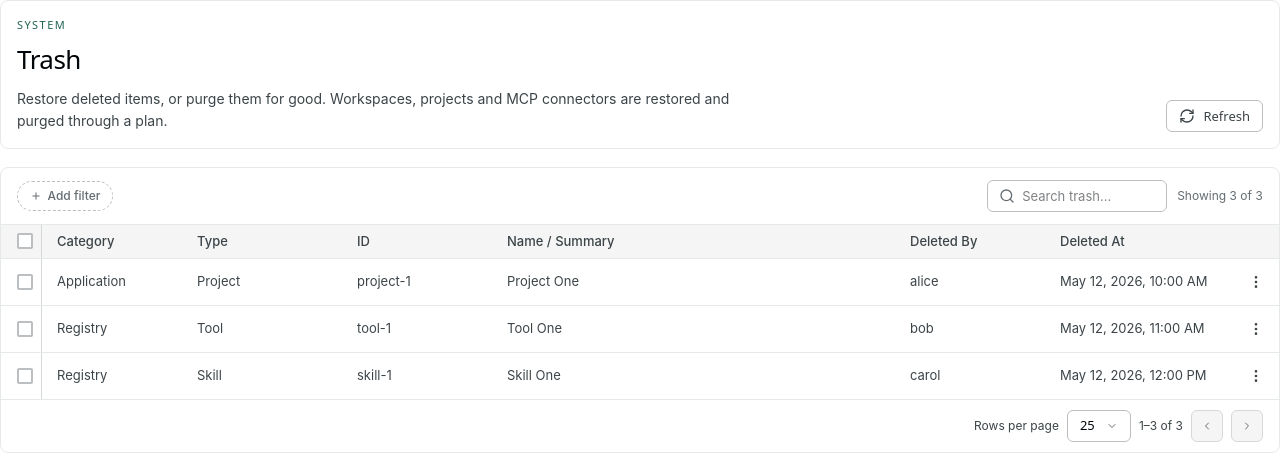
it: TrashPage › keeps row lifecycle actions visible in the trash grid
Click the button named "Actions for ": (1256, 282) [1240,266,1272,298]
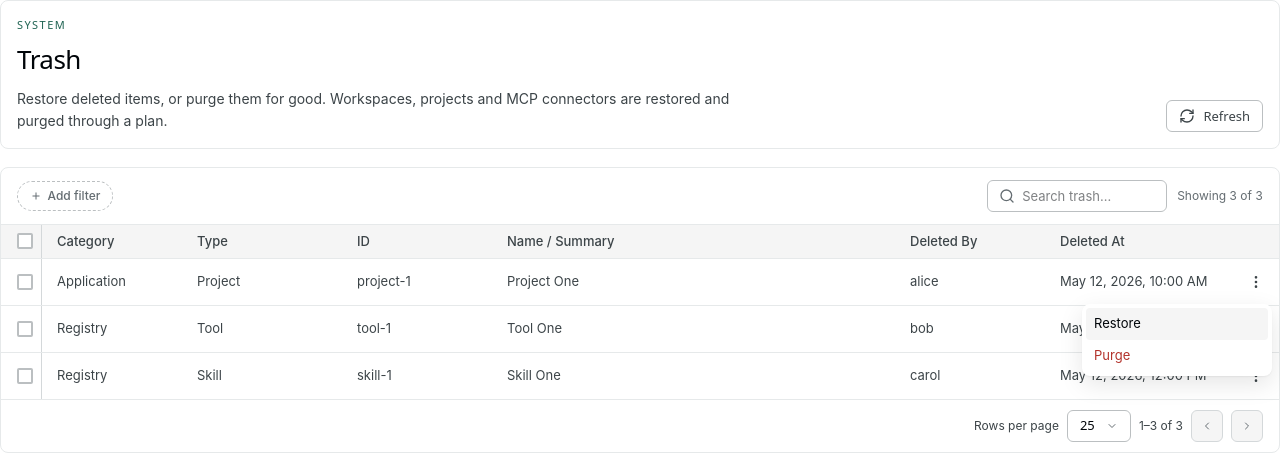
Expected: the menu item "Restore" is shown, [1086,308,1268,340]
Expected: the menu item "Purge" is shown, [1086,340,1268,372]
